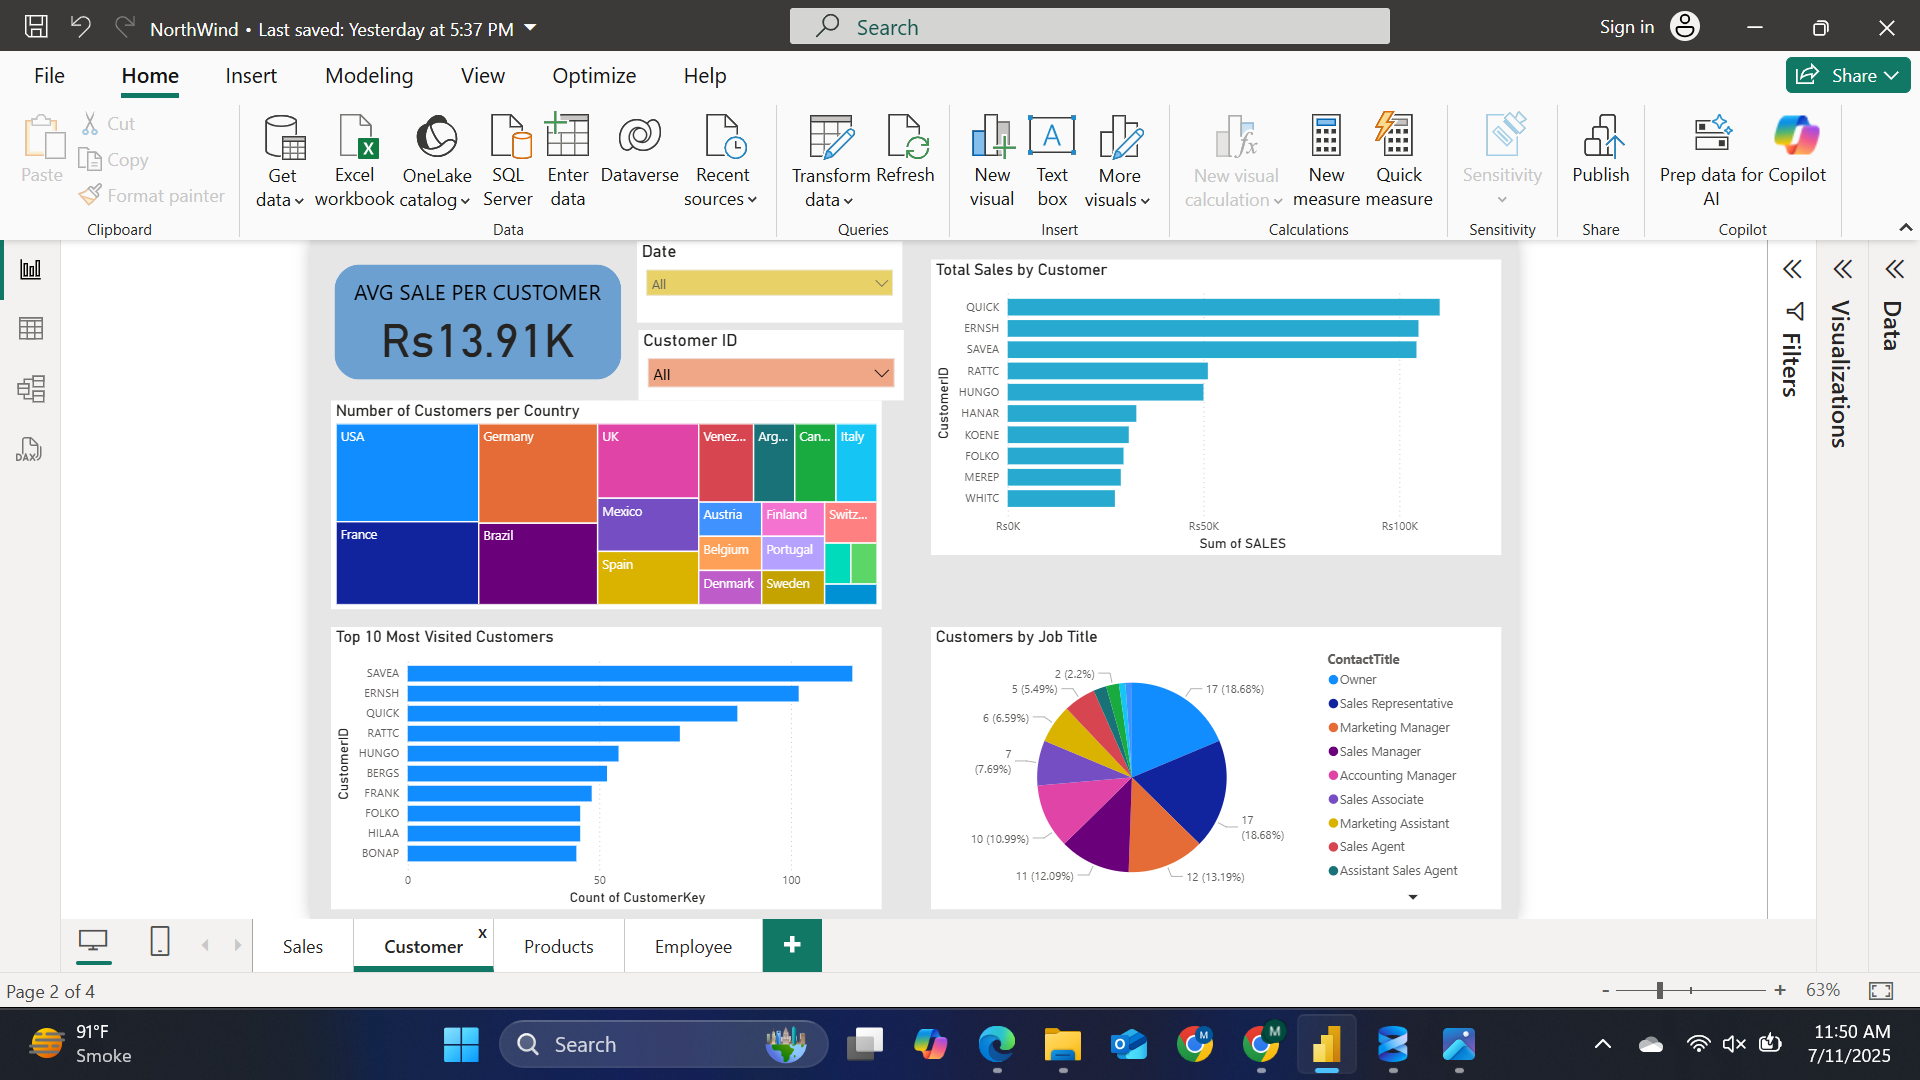

The page's visual inventory and layout, read from the dashboard file:
{"tool":"powerbi","page":{"name":"Customer","canvas":[1280,720],"ordinal":1},"visuals":[{"type":"clusteredBarChart","title":"Top 10 Most Visited Customers","fields":{"Category":["DimCustomers.CustomerID"],"Y":["CountNonNull(fact_orders.CustomerKey)"]},"box":[22.3,410.4,583.8,299],"z":0},{"type":"slicer","title":"Customer ID","fields":{"Values":["DimCustomers.CustomerID"]},"box":[348.3,95.4,281.5,74.8],"z":1000},{"type":"clusteredBarChart","title":"Total Sales by Customer","fields":{"Category":["DimCustomers.CustomerID"],"Y":["Sum(fact_orders.SALES)"]},"box":[658.5,20.7,604.4,313.4],"z":2000},{"type":"slicer","title":"Date","fields":{"Values":["DimDate.DateID"]},"box":[346.8,1.6,281.5,85.9],"z":3000},{"type":"cardVisual","title":"TotalSales","fields":{"Data":["DimCustomers.AVG SALE PER CUSTOMER"]},"box":[20.7,20.7,314.9,132],"z":4000},{"type":"treemap","title":"Number of Customers per Country","fields":{"Group":["DimCustomers.Country"],"Values":["CountNonNull(DimCustomers.CustomerID)"]},"box":[22.3,170.2,583.8,221.1],"z":5000},{"type":"pieChart","title":"Customers by Job Title","fields":{"Y":["CountNonNull(DimCustomers.CustomerID)"],"Category":["DimCustomers.ContactTitle"]},"box":[658.5,410.4,604.4,299],"z":6000}]}

Visuals, with their boxes on the page's 1280x720 design canvas (x1, y1, x2, y2). These are canvas units, not pixel positions in the 1920x1080 screenshot, which may show the page scaled, cropped or inside an application window:
"Top 10 Most Visited Customers" clusteredBarChart: 22,410,606,709
"Customer ID" slicer: 348,95,630,170
"Total Sales by Customer" clusteredBarChart: 658,21,1263,334
"Date" slicer: 347,2,628,88
"TotalSales" cardVisual: 21,21,336,153
"Number of Customers per Country" treemap: 22,170,606,391
"Customers by Job Title" pieChart: 658,410,1263,709
